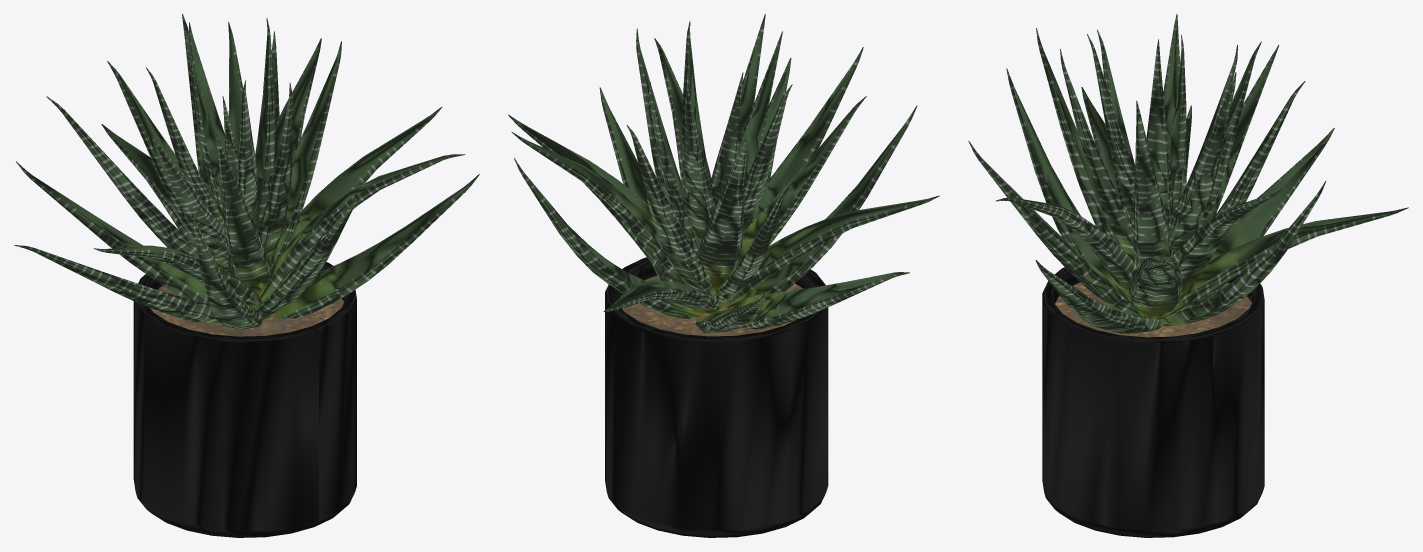
Rendered from zebra-plant--haworthia-fasciata-9cf289.glb.
3 views of the same model, side by side, from view 1: azimuth 30°, elevation 25°; view 2: azimuth 150°, elevation 25°; view 3: azimuth 270°, elevation 25° (orthographic).
Parts seen in each view (by area): view 1: PropMesh; view 2: PropMesh; view 3: PropMesh.
Boxes of the visible parts, <box> form: PropMesh: <box>14,14,479,537</box>; PropMesh: <box>508,14,939,537</box>; PropMesh: <box>968,14,1408,537</box>.
Bounding box in the file's own units: 0.1847 × 0.2 × 0.1705.
2 materials, 2 textured.
